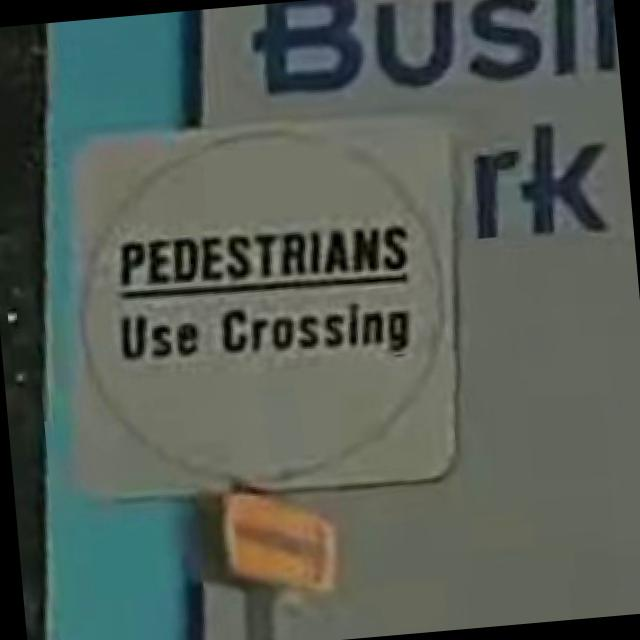pedestriancrossing_sign: (41, 98, 488, 516)
